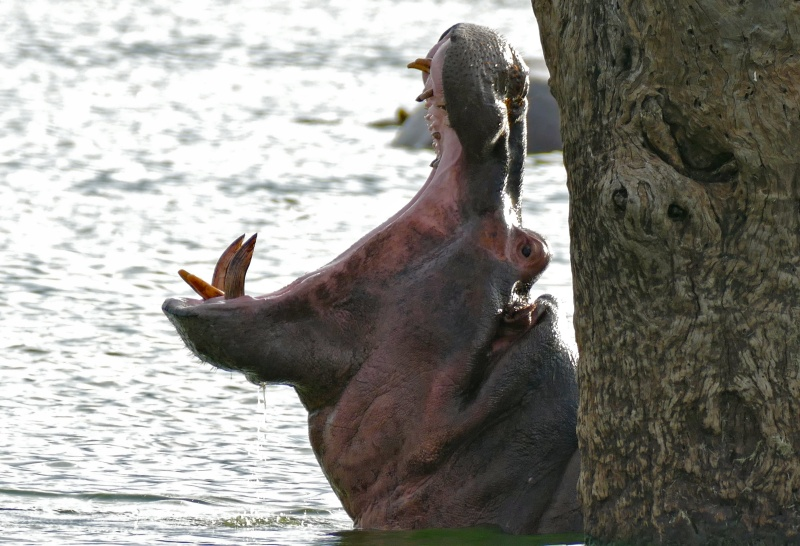hipopotamo: (159, 16, 593, 546)
